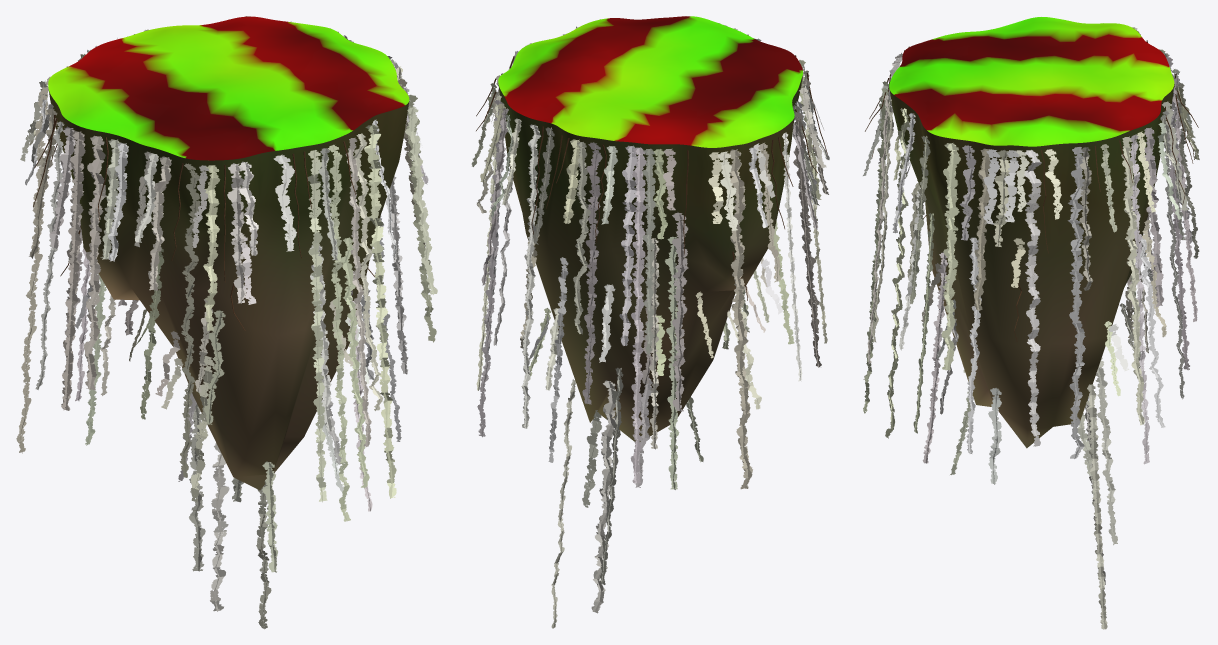
Rendered from SM_H17_Floater01.fbx.
3 renders of one model, left to right at view 1: azimuth 30°, elevation 25°; view 2: azimuth 150°, elevation 25°; view 3: azimuth 270°, elevation 25°, orthographic. The views are drawn at different scales.
Visible parts, largest first — view 1: SM_H17_Floater01, SM_H17_Floater01_Ivy; view 2: SM_H17_Floater01, SM_H17_Floater01_Ivy; view 3: SM_H17_Floater01, SM_H17_Floater01_Ivy.
Part boxes in pixels (<box>): SM_H17_Floater01: <box>48,16,409,490</box>; SM_H17_Floater01_Ivy: <box>16,16,437,629</box>; SM_H17_Floater01: <box>498,16,802,441</box>; SM_H17_Floater01_Ivy: <box>471,19,829,628</box>; SM_H17_Floater01: <box>889,17,1174,448</box>; SM_H17_Floater01_Ivy: <box>863,27,1199,629</box>.
Bounding box in the file's own units: 30.22 × 47.63 × 28.1.
